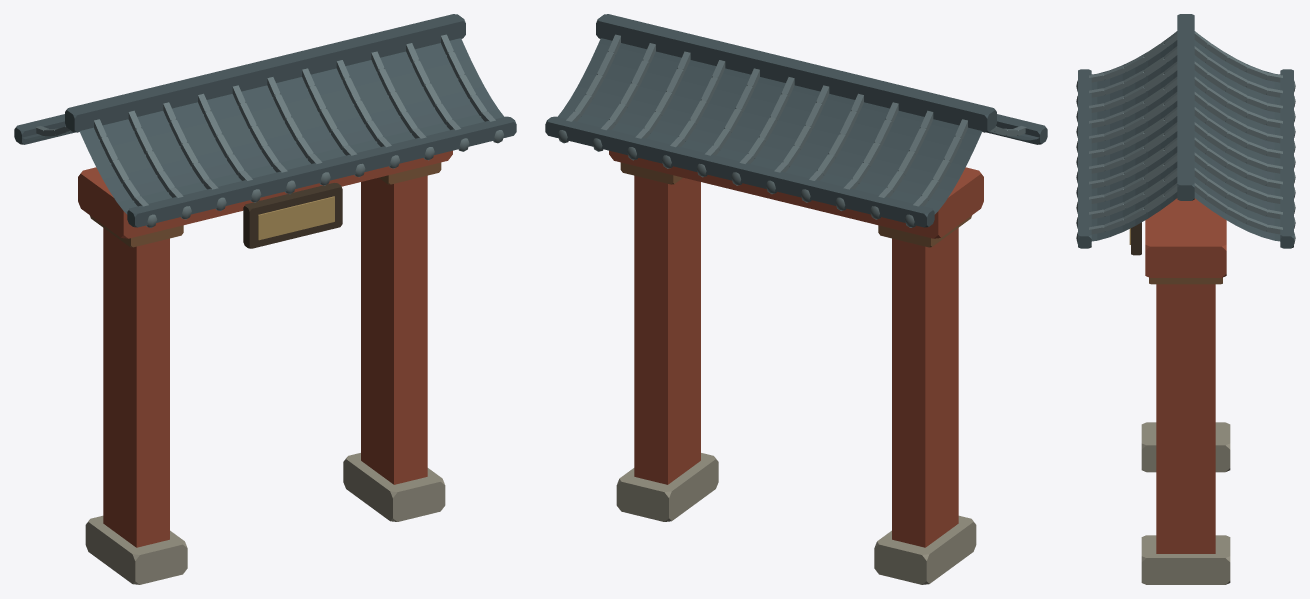
The model's file is night_gate.glb.
3 views of the same model, side by side, from view 1: azimuth 30°, elevation 25°; view 2: azimuth 150°, elevation 25°; view 3: azimuth 270°, elevation 25° (orthographic). The views are drawn at different scales.
Visible parts, largest first — view 1: WardGate; view 2: WardGate; view 3: WardGate.
Boxes of the visible parts, x1,y1,x2,y2 form: WardGate: (14,14,516,584); WardGate: (545,14,1047,584); WardGate: (1076,14,1295,584).
Size of the model in its own units: 1.64 by 1.87 by 0.888.
